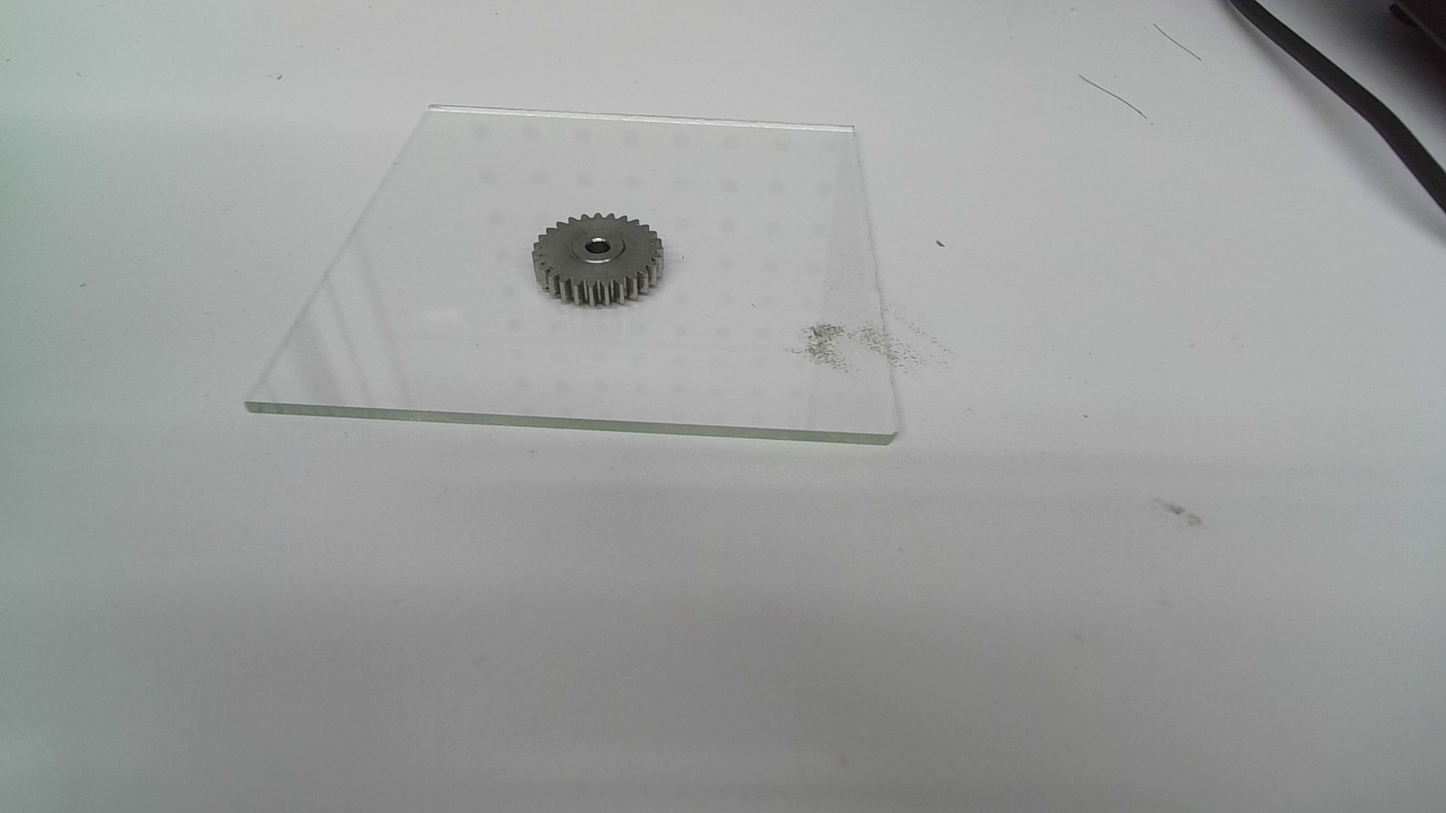gear: (530, 211, 668, 307)
